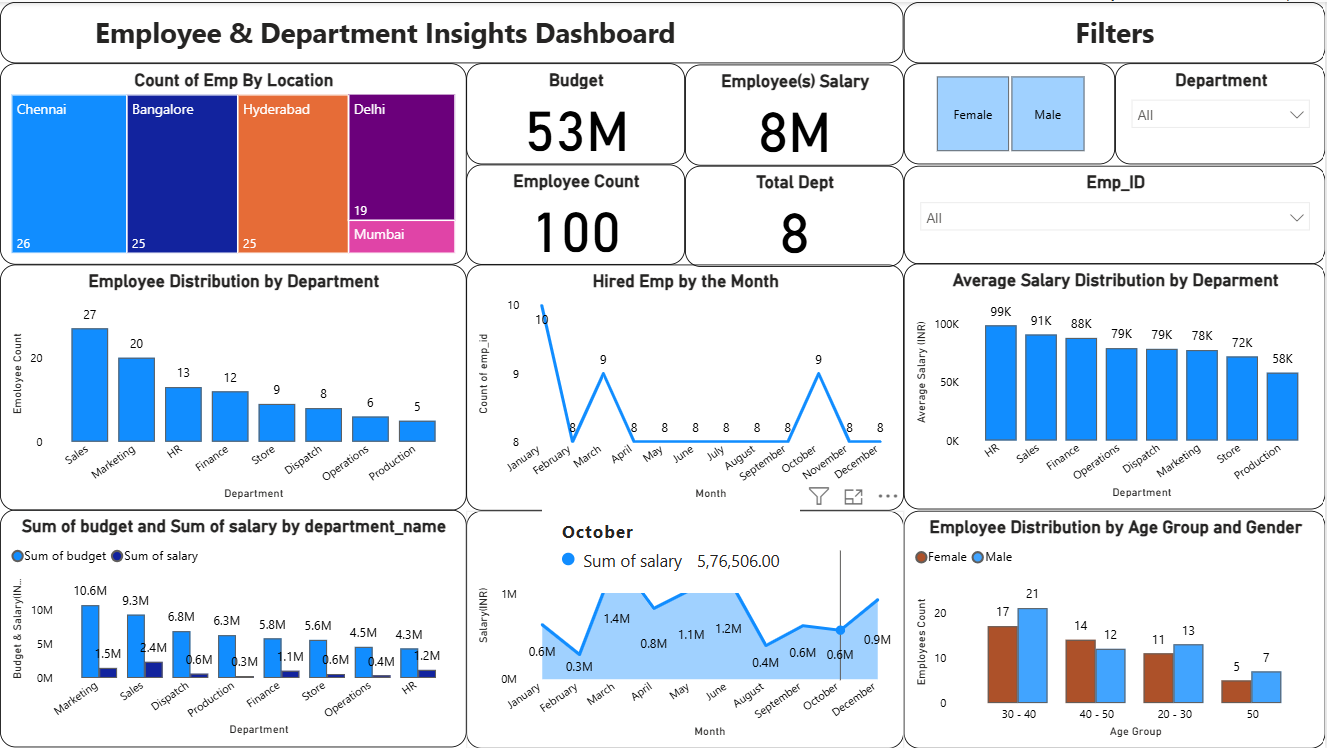

The page's visual inventory and layout, read from the dashboard file:
{"tool":"powerbi","page":{"name":"Page 1","canvas":[1280,720],"ordinal":0},"visuals":[{"type":"clusteredColumnChart","title":"Employee Distribution by Age Group and Gender","fields":{"Category":["emp.Age_Group"],"Y":["Count(emp.emp_id)"],"Series":["emp.gender"]},"box":[872.3,491,407.8,229.2],"z":0},{"type":"clusteredColumnChart","title":"Employee Distribution by Department","fields":{"Category":["dept.department_name"],"Y":["CountNonNull(emp.emp_id)"]},"box":[0,253.4,450,237.7],"z":1000},{"type":"card","title":"Budget","fields":{"Values":["Sum(dept.budget)"]},"box":[450,59.1,211.1,97.7],"z":2000},{"type":"columnChart","title":"Average Salary Distribution by Deparment","fields":{"Category":["dept.department_name"],"Y":["Avg(emp.salary)"]},"box":[872.3,252.1,407.8,237.7],"z":3000},{"type":"stackedAreaChart","title":"Sum Of Salary By Month","fields":{"Category":["dept.salary_date.Variation.Date Hierarchy.Month"],"Y":["Sum(emp.salary)"]},"box":[450,491,422.3,229.2],"z":4000},{"type":"clusteredColumnChart","fields":{"Y":["Sum(dept.budget)","Sum(emp.salary)"],"Category":["dept.department_name"]},"box":[0,489.8,450,229.2],"z":5000},{"type":"lineChart","title":"Hired Emp by the Month","fields":{"Category":["emp.hire_date.Variation.Date Hierarchy.Month"],"Y":["CountNonNull(emp.emp_id)"]},"box":[450,253.4,422.3,237.7],"z":6000},{"type":"card","title":"Employee Count","fields":{"Values":["CountNonNull(emp.emp_id)"]},"box":[450,156.8,211.1,96.5],"z":7000},{"type":"textbox","box":[0,0,872.3,59.1],"z":8000},{"type":"treemap","title":"Count of Emp By Location","fields":{"Group":["dept.office_location"],"Values":["CountNonNull(emp.emp_id)"]},"box":[0,59.1,450,194.2],"z":9000},{"type":"textbox","box":[872.3,0,407.8,59.1],"z":10000},{"type":"slicer","fields":{"Values":["emp.gender"]},"box":[872.3,59.1,203.9,97.7],"z":11000},{"type":"slicer","title":"Department","fields":{"Values":["dept.department_name"]},"box":[1076.1,59.1,203.9,97.7],"z":12000},{"type":"card","title":"Employee(s) Salary","fields":{"Values":["Sum(emp.salary)"]},"box":[661.1,60.3,211.1,97.7],"z":13000},{"type":"slicer","title":"Emp_ID","fields":{"Values":["emp.emp_id"]},"box":[872.3,158,407.8,95.3],"z":14000},{"type":"card","title":"Total Dept","fields":{"Values":["Count(dept.department_name)"]},"box":[661.1,158,211.1,97.7],"z":15000}]}

Visuals, with their boxes in screenshot pixels (x1, y1, x2, y2), scaled from the page's 1280x720 canvas onto the 1327x748 screenshot:
"Employee Distribution by Age Group and Gender" clusteredColumnChart: crop(904, 510, 1326, 747)
"Employee Distribution by Department" clusteredColumnChart: crop(0, 263, 467, 510)
"Budget" card: crop(467, 61, 685, 163)
"Average Salary Distribution by Deparment" columnChart: crop(904, 262, 1326, 509)
"Sum Of Salary By Month" stackedAreaChart: crop(467, 510, 904, 747)
clusteredColumnChart - Sum(dept.budget) x Sum(emp.salary): crop(0, 509, 467, 747)
"Hired Emp by the Month" lineChart: crop(467, 263, 904, 510)
"Employee Count" card: crop(467, 163, 685, 263)
textbox: crop(0, 0, 904, 61)
"Count of Emp By Location" treemap: crop(0, 61, 467, 263)
textbox: crop(904, 0, 1326, 61)
slicer - emp.gender: crop(904, 61, 1116, 163)
"Department" slicer: crop(1116, 61, 1326, 163)
"Employee(s) Salary" card: crop(685, 63, 904, 164)
"Emp_ID" slicer: crop(904, 164, 1326, 263)
"Total Dept" card: crop(685, 164, 904, 266)
